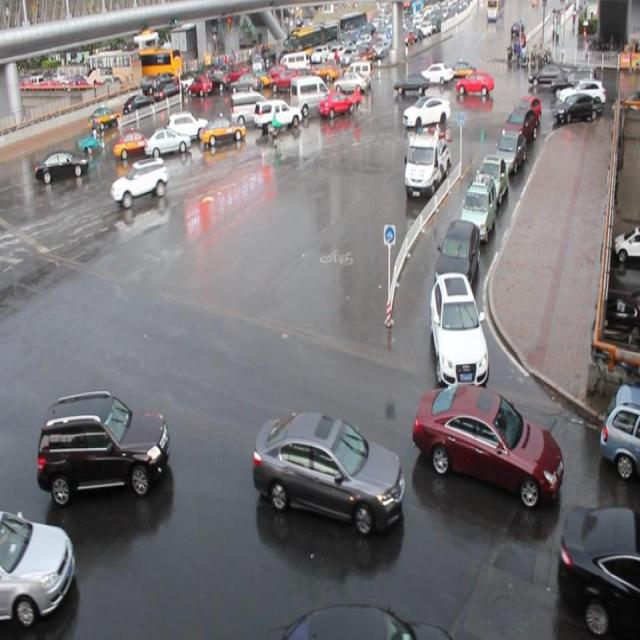bus: (403, 131, 451, 198)
car: (413, 382, 565, 504), (254, 408, 403, 532), (36, 389, 169, 503), (558, 502, 640, 631), (1, 508, 76, 620), (430, 268, 488, 384), (598, 381, 640, 471), (436, 213, 481, 292), (111, 157, 169, 206), (460, 173, 498, 242), (473, 150, 509, 208), (36, 146, 89, 184), (252, 96, 302, 133), (199, 112, 247, 150), (403, 95, 450, 130), (144, 126, 192, 160), (166, 108, 209, 144), (495, 124, 527, 170), (507, 106, 539, 150), (113, 129, 153, 158), (318, 90, 355, 117), (517, 94, 543, 132)
truck: (288, 75, 332, 115), (228, 90, 271, 128)
